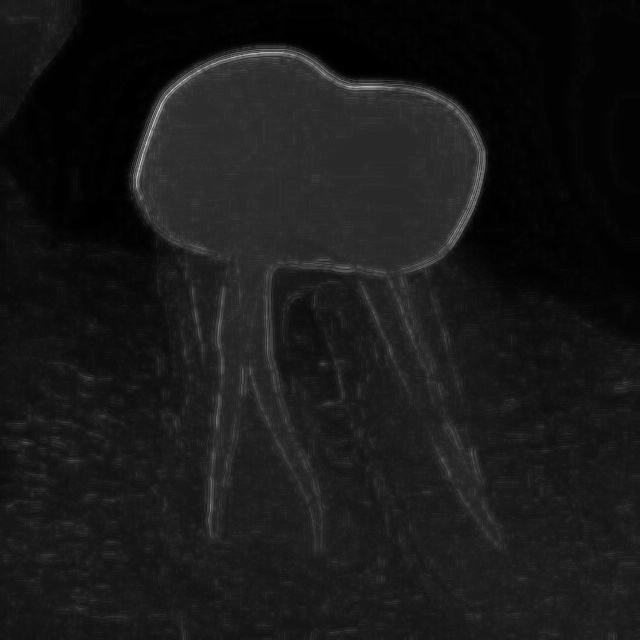Class 0- No endodontic treatment: (99, 165, 592, 626)
